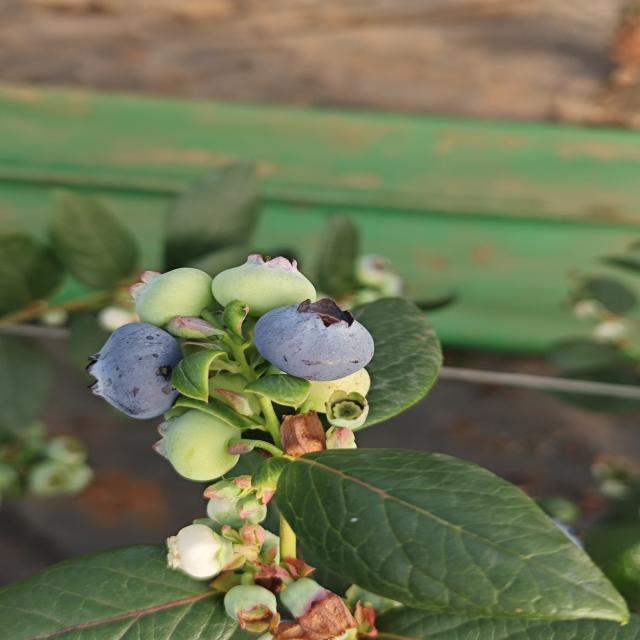ripe: (250, 296, 377, 384), (83, 320, 187, 422)
